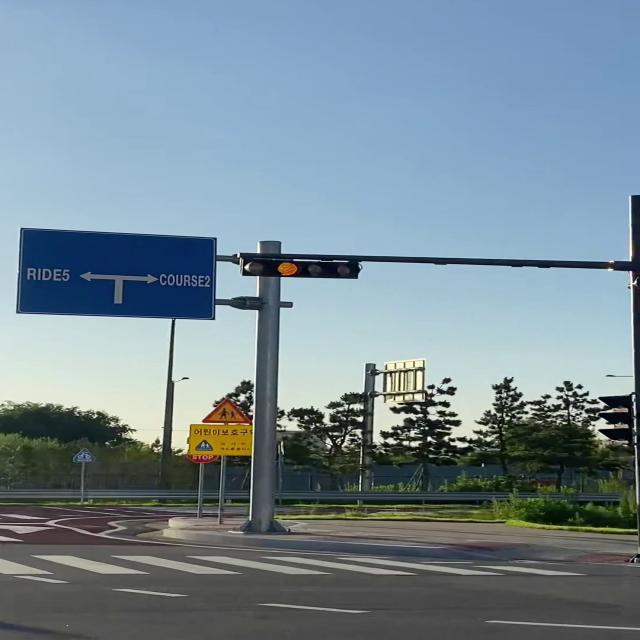yellow_light: (242, 259, 359, 279)
